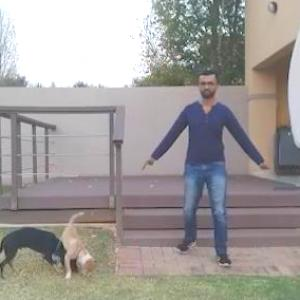land: (144, 73, 288, 271)
